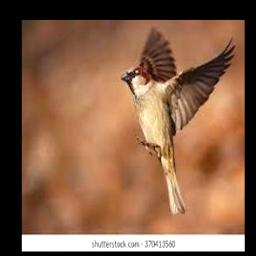Sparrow: (121, 27, 235, 215)
